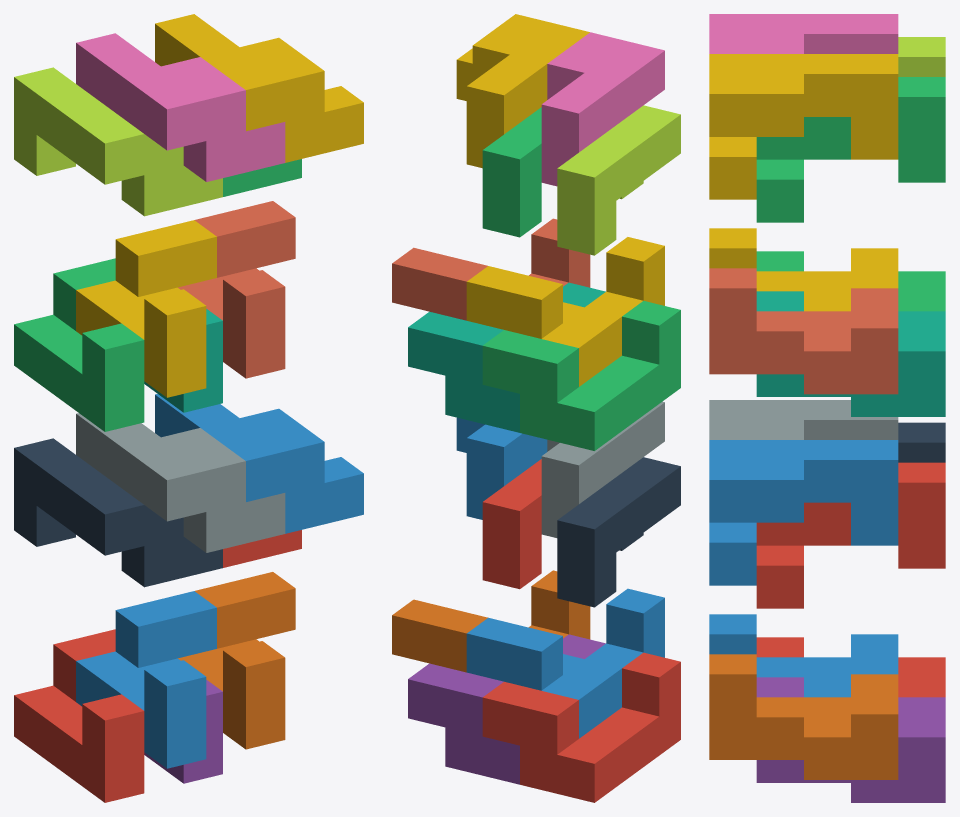
File: tiling.obj
3 renders of one model, left to right at view 1: azimuth 30°, elevation 25°; view 2: azimuth 150°, elevation 25°; view 3: azimuth 270°, elevation 25°, orthographic. The views are drawn at different scales.
Visible parts, largest first — view 1: copy_2_domain_4, copy_2_domain_2, copy_2_domain_3, copy_2_domain_1, copy_1_domain_2, copy_1_domain_4, copy_2_domain_8, copy_1_domain_3, copy_1_domain_1, copy_2_domain_6, copy_1_domain_6, copy_1_domain_8 (+4 smaller); view 2: copy_1_domain_1, copy_1_domain_3, copy_1_domain_2, copy_1_domain_4, copy_2_domain_4, copy_2_domain_3, copy_2_domain_1, copy_2_domain_8, copy_1_domain_7, copy_1_domain_5, copy_1_domain_6, copy_1_domain_8 (+4 smaller); view 3: copy_2_domain_6, copy_2_domain_8, copy_1_domain_8, copy_1_domain_6, copy_2_domain_5, copy_2_domain_7, copy_1_domain_5, copy_1_domain_7, copy_2_domain_4, copy_1_domain_2, copy_1_domain_4, copy_2_domain_2 (+4 smaller).
Part boxes in pixels (bbox=[...]): copy_2_domain_4: bbox=[76, 33, 285, 181]; copy_2_domain_2: bbox=[76, 413, 285, 552]; copy_2_domain_3: bbox=[14, 67, 222, 216]; copy_2_domain_1: bbox=[14, 438, 222, 587]; copy_1_domain_2: bbox=[76, 591, 216, 768]; copy_1_domain_4: bbox=[76, 220, 216, 397]; copy_2_domain_8: bbox=[155, 14, 363, 162]; copy_1_domain_3: bbox=[14, 258, 144, 431]; copy_1_domain_1: bbox=[14, 629, 144, 802]; copy_2_domain_6: bbox=[155, 394, 363, 533]; copy_1_domain_6: bbox=[178, 572, 295, 749]; copy_1_domain_8: bbox=[178, 201, 295, 378]; copy_1_domain_1: bbox=[482, 652, 680, 802]; copy_1_domain_3: bbox=[482, 301, 680, 450]; copy_1_domain_2: bbox=[466, 588, 664, 738]; copy_1_domain_4: bbox=[466, 237, 664, 386]; copy_2_domain_4: bbox=[541, 32, 664, 186]; copy_2_domain_3: bbox=[557, 105, 680, 255]; copy_2_domain_1: bbox=[557, 457, 680, 607]; copy_2_domain_8: bbox=[456, 14, 589, 168]; copy_1_domain_7: bbox=[408, 282, 605, 432]; copy_1_domain_5: bbox=[408, 634, 605, 784]; copy_1_domain_6: bbox=[392, 570, 590, 672]; copy_1_domain_8: bbox=[392, 218, 590, 320]; copy_2_domain_6: bbox=[709, 440, 898, 585]; copy_2_domain_8: bbox=[709, 54, 898, 199]; copy_1_domain_8: bbox=[709, 268, 898, 394]; copy_1_domain_6: bbox=[709, 654, 898, 779]; copy_2_domain_5: bbox=[756, 462, 945, 608]; copy_2_domain_7: bbox=[756, 77, 945, 222]; copy_1_domain_5: bbox=[756, 677, 945, 802]; copy_1_domain_7: bbox=[756, 291, 945, 416]; copy_2_domain_4: bbox=[709, 14, 898, 53]; copy_1_domain_2: bbox=[709, 614, 898, 697]; copy_1_domain_4: bbox=[709, 228, 898, 311]; copy_2_domain_2: bbox=[709, 400, 898, 439].
Size of the model in its own units: 6 by 17 by 5.
